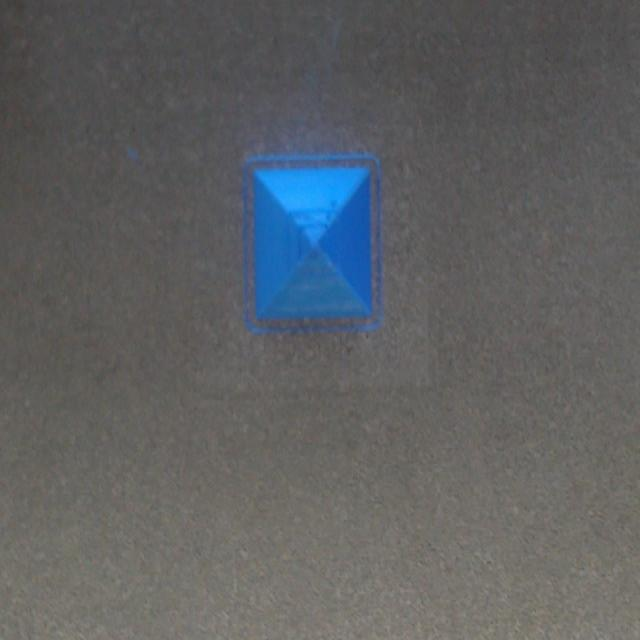mistake: (296, 196, 341, 260)
